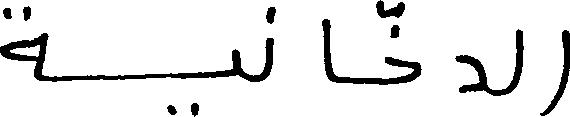X: (0, 1, 46, 85), (387, 0, 421, 89), (542, 25, 569, 116), (456, 50, 486, 97), (322, 14, 335, 86), (265, 2, 273, 83), (515, 24, 521, 92), (231, 44, 239, 80)
